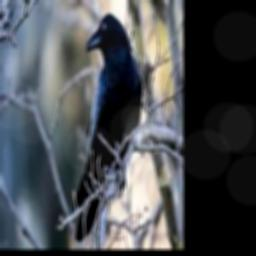Crow: (73, 13, 143, 243)
